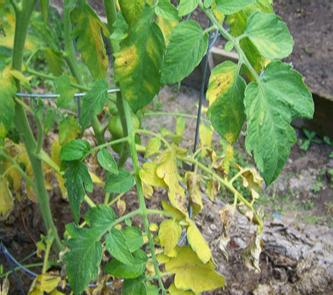Tomato leaf yellow virus: (237, 58, 315, 192), (113, 1, 176, 122), (54, 198, 122, 295), (192, 54, 251, 140), (239, 9, 291, 57), (0, 59, 22, 148)
